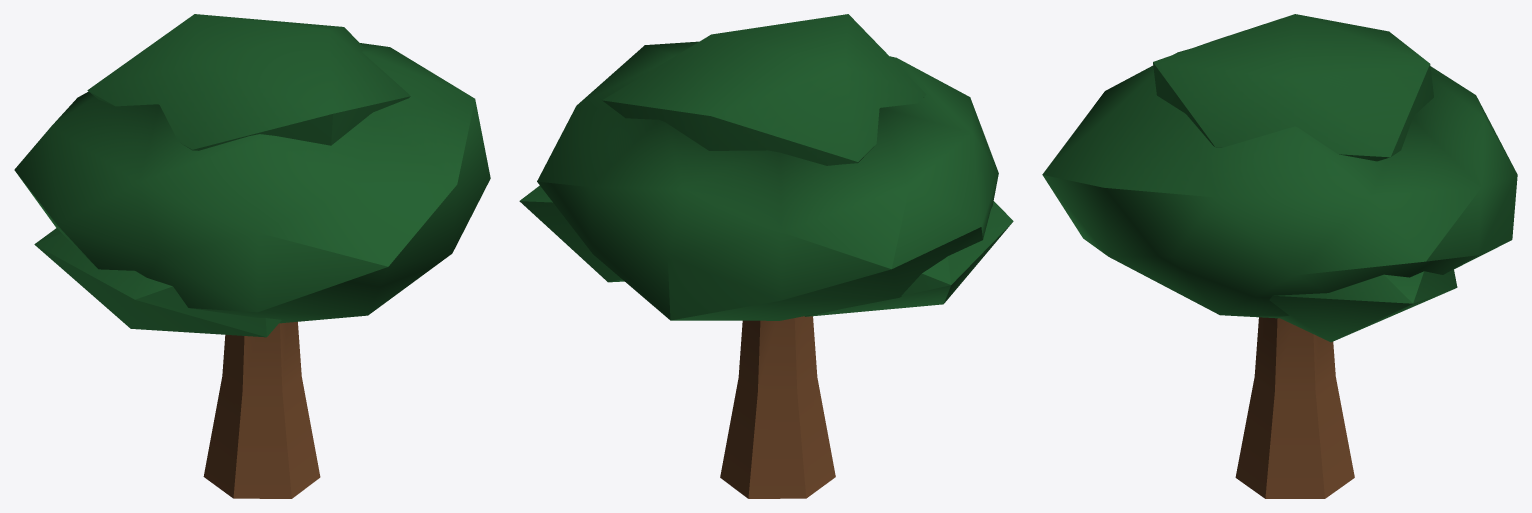
File: broadleaf.glb
The picture shows the model from 3 angles, left to right: view 1: azimuth 30°, elevation 25°; view 2: azimuth 150°, elevation 25°; view 3: azimuth 270°, elevation 25°; orthographic projection.
Parts seen in each view (by area): view 1: soft, trunk; view 2: soft, trunk; view 3: soft, trunk.
Boxes of the visible parts, box(x1,y1,x2,y2) form: soft: box(14, 14, 490, 337); trunk: box(203, 321, 320, 498); soft: box(519, 14, 1013, 320); trunk: box(720, 316, 835, 498); soft: box(1042, 14, 1517, 342); trunk: box(1235, 317, 1354, 498).
Size of the model in its own units: 1 by 1 by 1.
